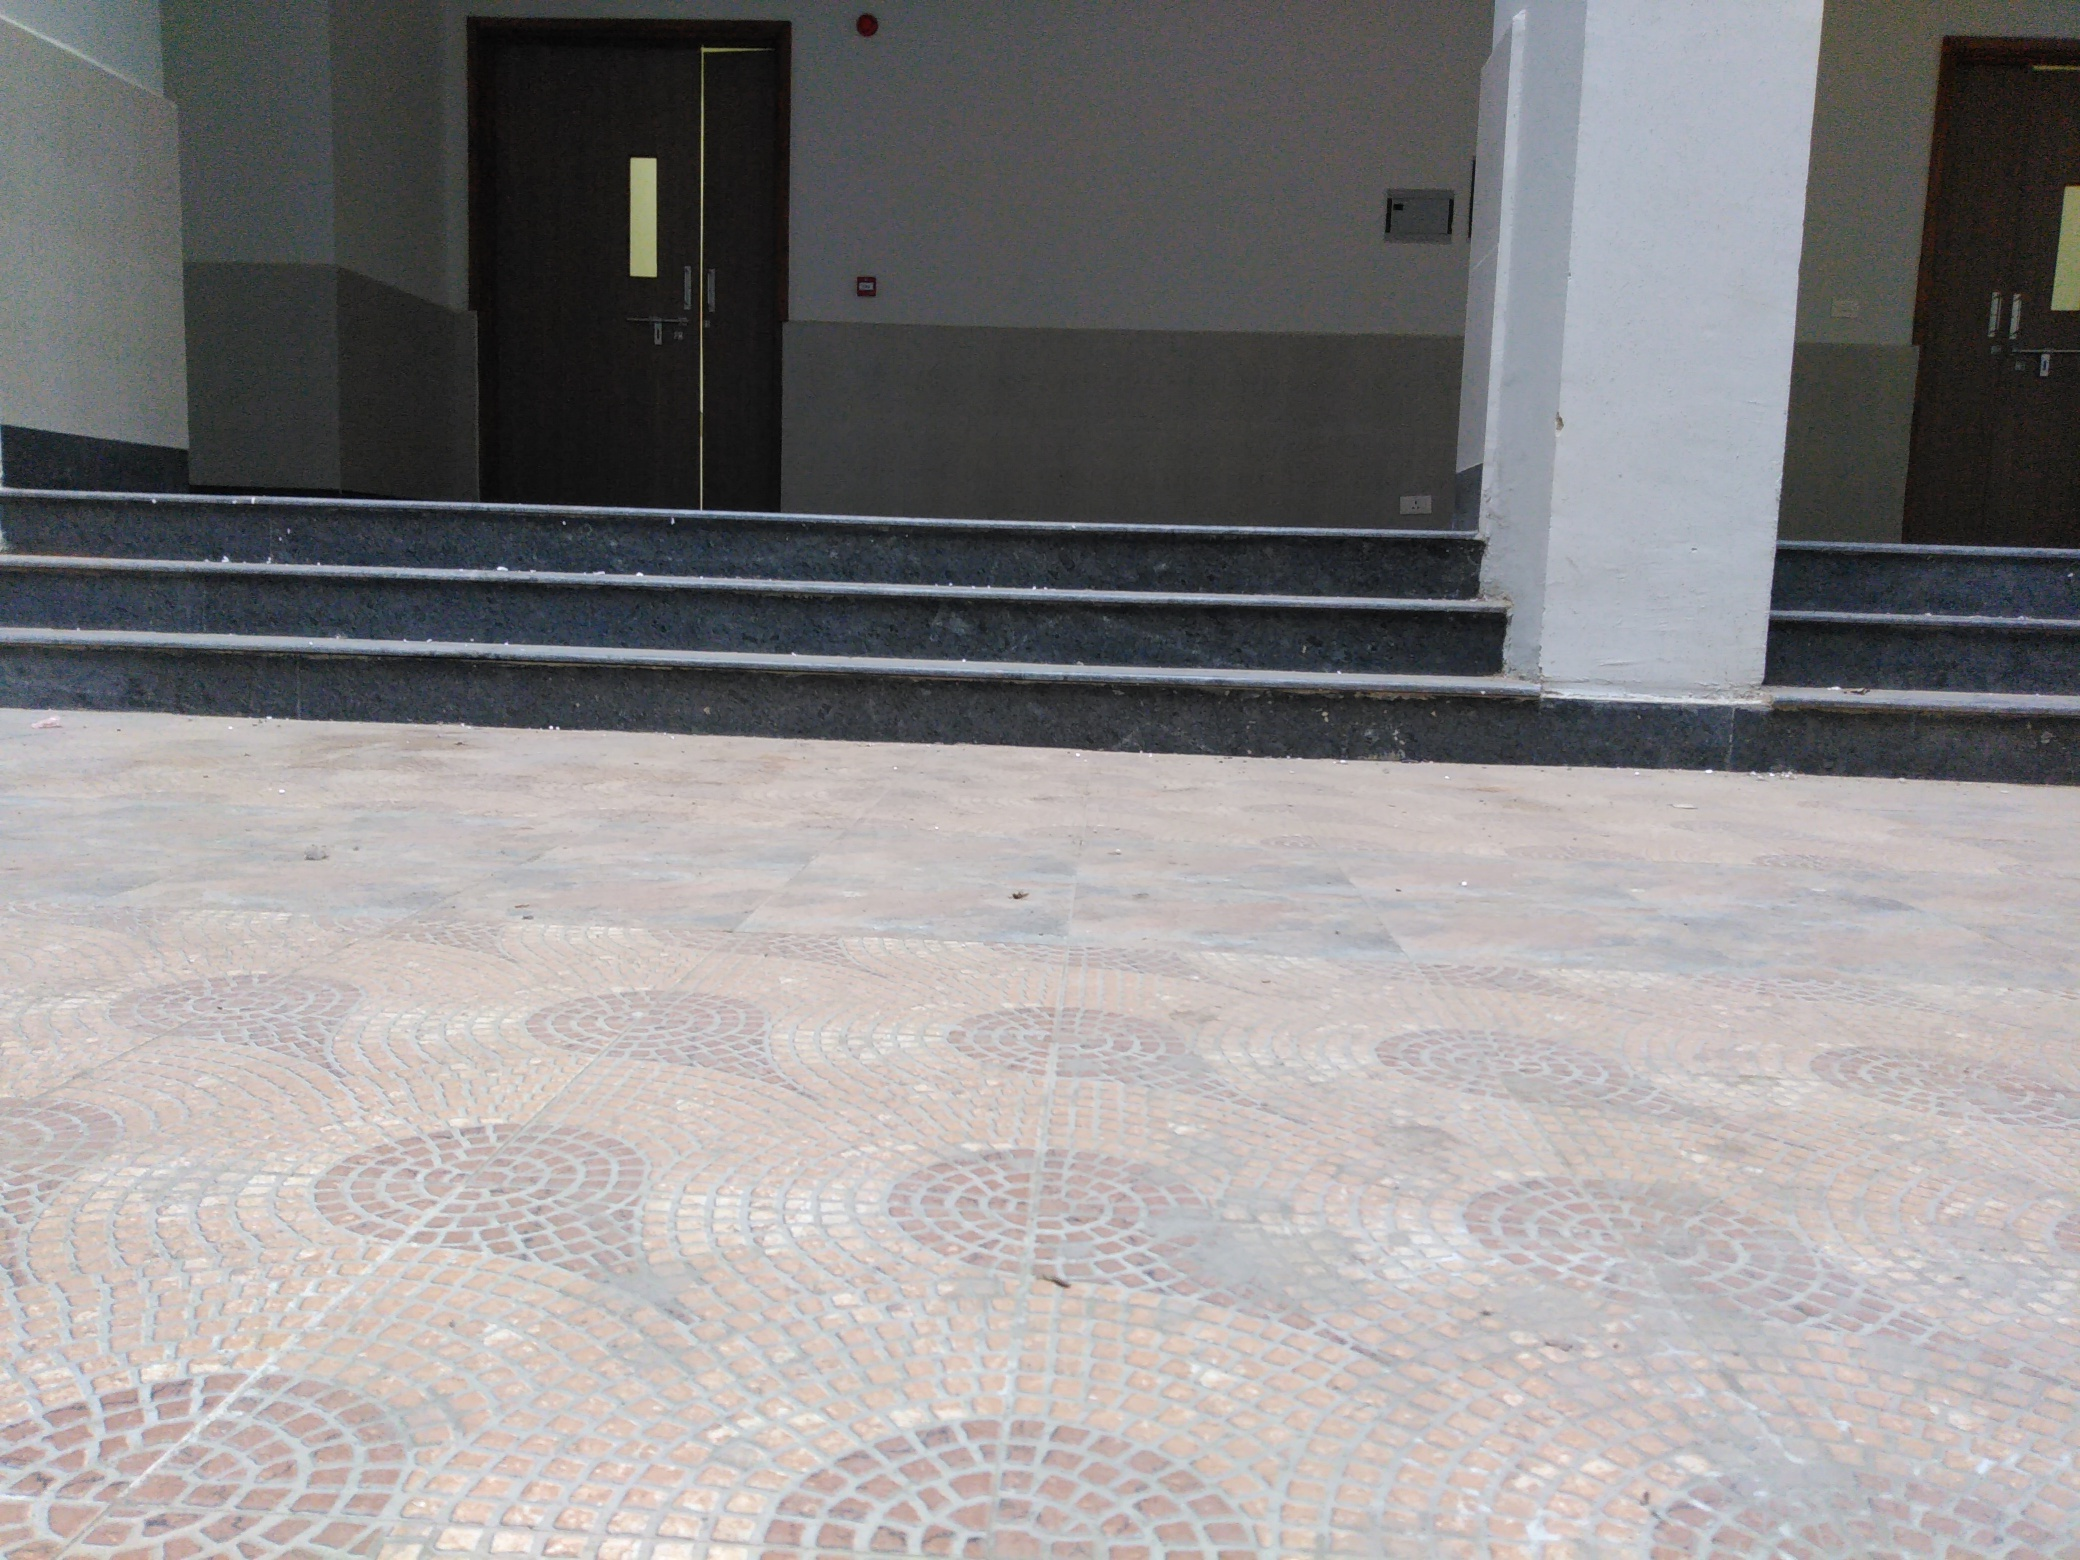stairs_up: (26, 475, 1481, 765), (1787, 536, 2077, 785)
